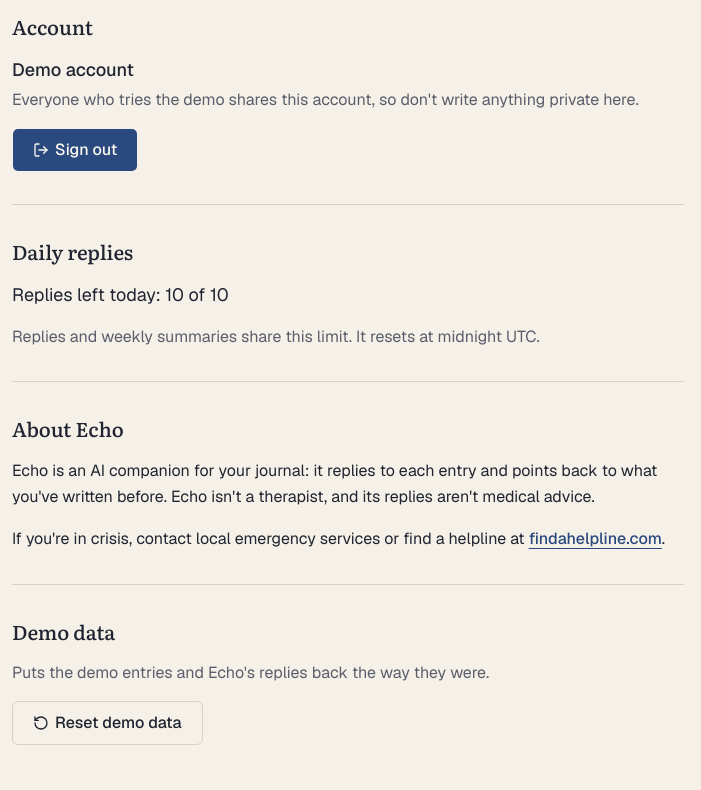
Test: SettingsView › logs a failed sign-out request and tells the user
This screenshot has width=701, height=790.
Click the button "Sign out".
click(75, 150)  # box [12,128,138,172]
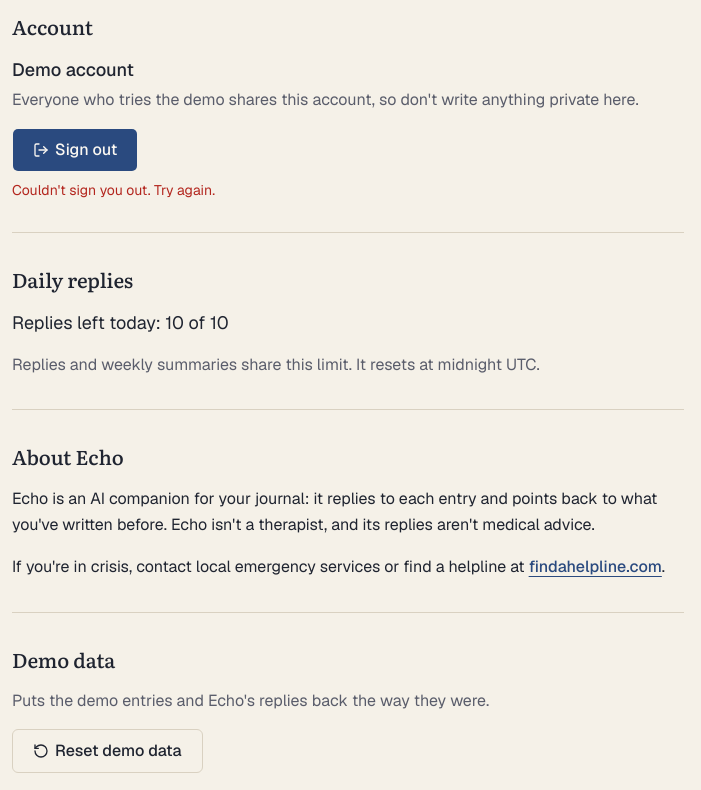
Expected: the message reads "Couldn't sign you out. Try again.", [12,181,215,199]
